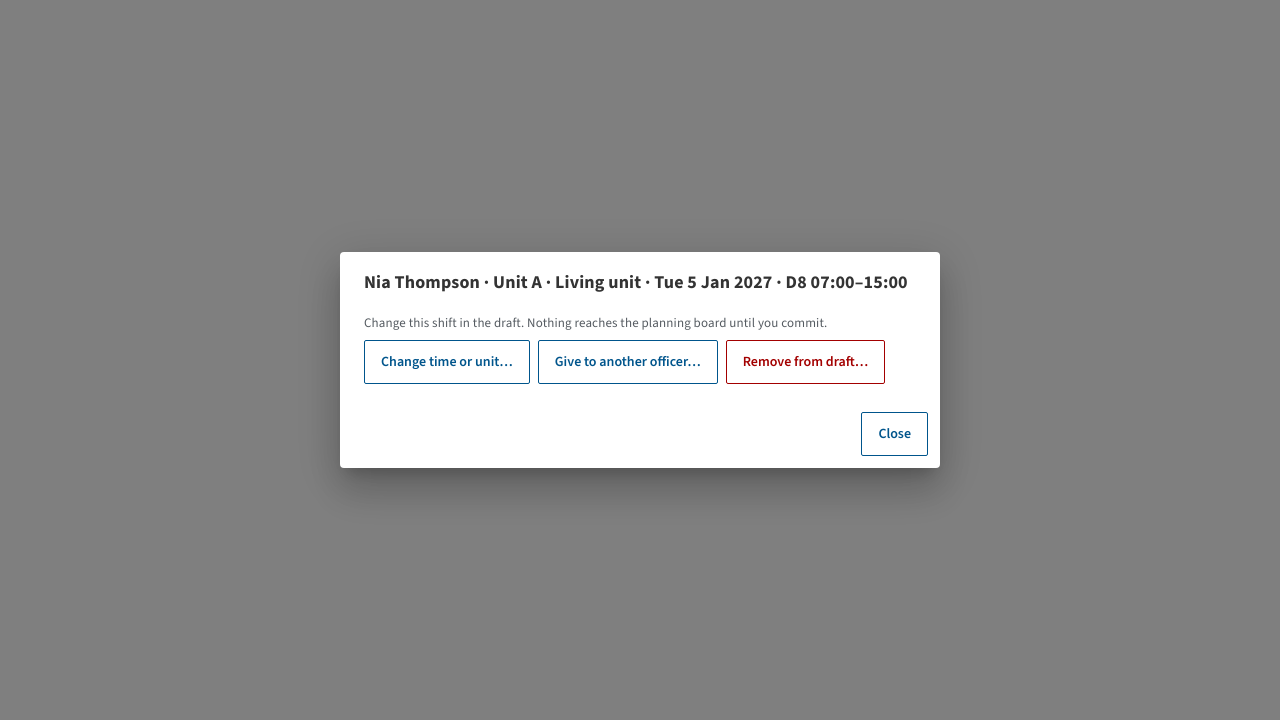
Test: the draft shift dialog › shows the api detail verbatim on a 409
This screenshot has width=1280, height=720.
Later steps or results of the test are not shown.
Step 1. Click the button "Change time or unit…" → coordinates (447, 362), box [364, 340, 530, 384]
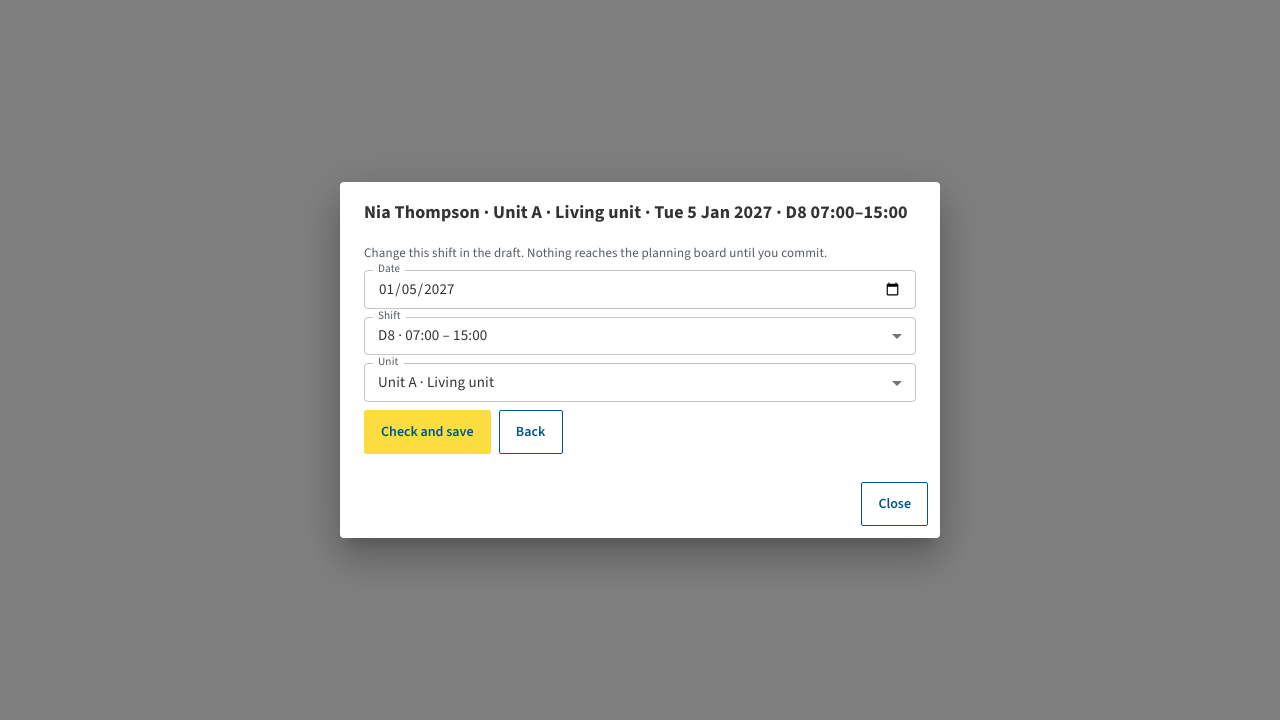
Step 2. Click the button "Check and save" → coordinates (427, 432), box [364, 410, 490, 454]
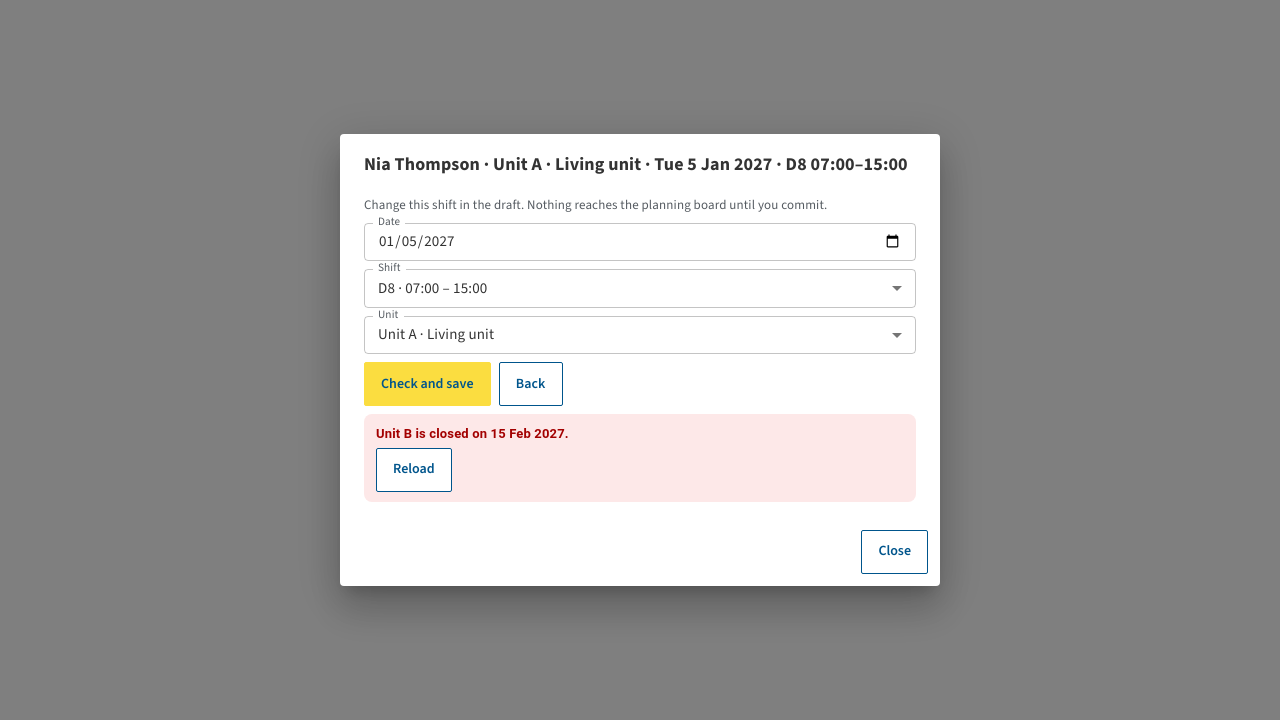
Check: the text "Unit B is closed on 15 Feb 2027." is shown, box [376, 426, 569, 441]
